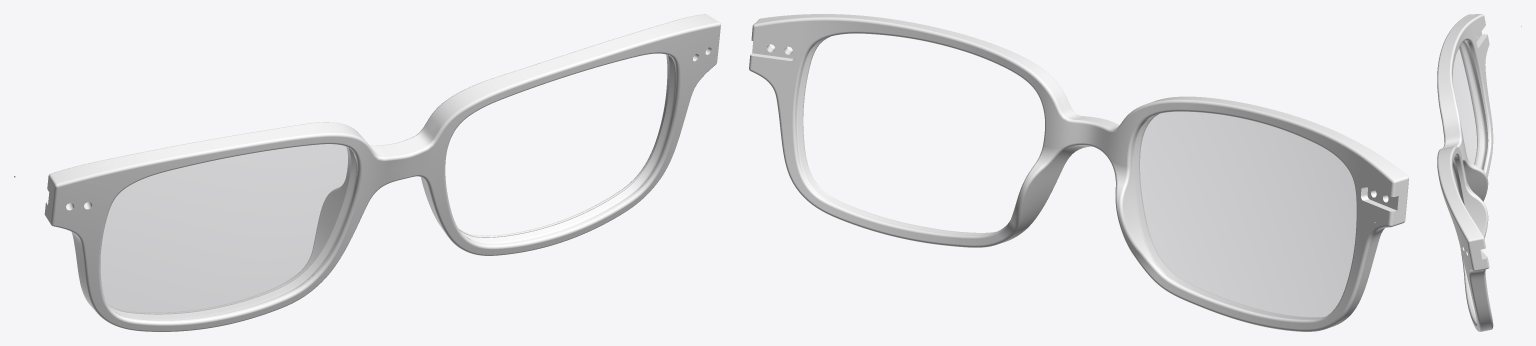
The model's file is IGV4.92C.gltf.
3 renders of one model, left to right at view 1: azimuth 30°, elevation 25°; view 2: azimuth 150°, elevation 25°; view 3: azimuth 270°, elevation 25°, orthographic. The views are drawn at different scales.
Parts seen in each view (by area): view 1: FRONTALE, LENTE_DX; view 2: FRONTALE, LENTE_DX; view 3: FRONTALE, LENTE_DX.
Boxes of the visible parts, x1=… form: FRONTALE: x1=44, y1=14, x2=720, y2=331; LENTE_DX: x1=101, y1=144, x2=356, y2=320; FRONTALE: x1=749, y1=14, x2=1408, y2=331; LENTE_DX: x1=1133, y1=112, x2=1356, y2=319; FRONTALE: x1=1437, y1=14, x2=1493, y2=331; LENTE_DX: x1=1453, y1=41, x2=1487, y2=169.
Size of the model in its own units: 1.25 by 0.3609 by 0.1969.
3 materials, 1 textured.
